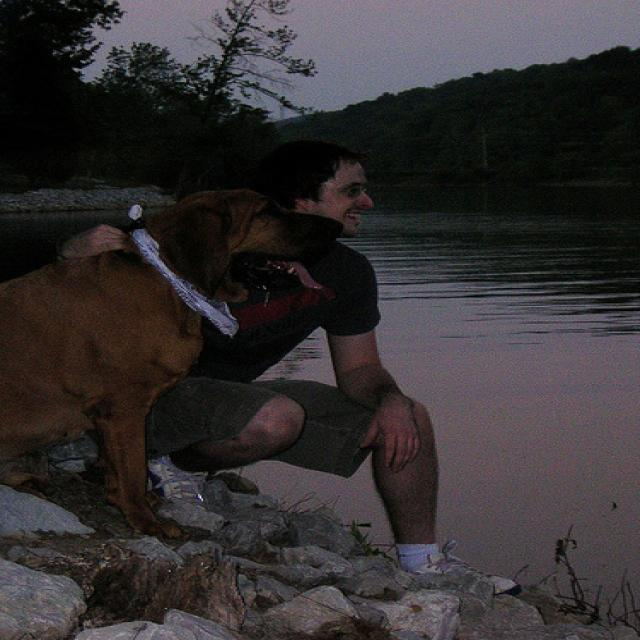Dog: (47, 186, 326, 546)
